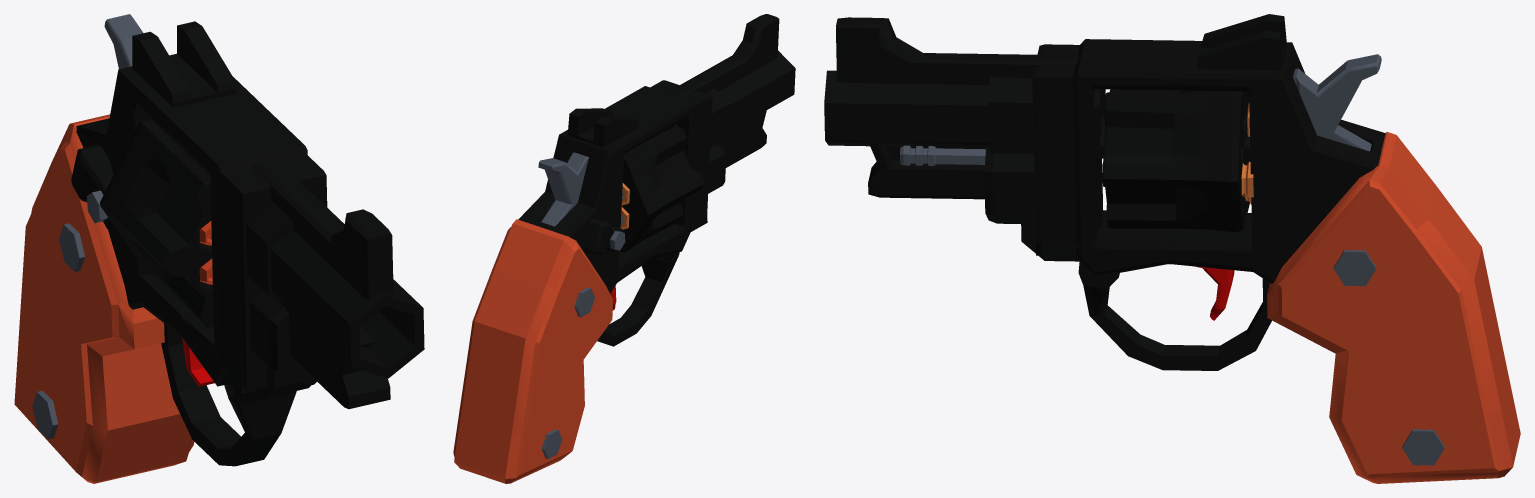
File: gun-view.glb
3 renders of one model, left to right at view 1: azimuth 30°, elevation 25°; view 2: azimuth 150°, elevation 25°; view 3: azimuth 270°, elevation 25°, orthographic. The views are drawn at different scales.
Visible parts, largest first — view 1: plat; view 2: plat; view 3: plat.
Boxes of the visible parts, <box> form: plat: <box>14,14,424,483</box>; plat: <box>453,14,795,483</box>; plat: <box>824,14,1520,483</box>.
Bounding box in the file's own units: 0.0815 × 0.2098 × 0.3057.
Materials: 1 (1 with a texture image).
